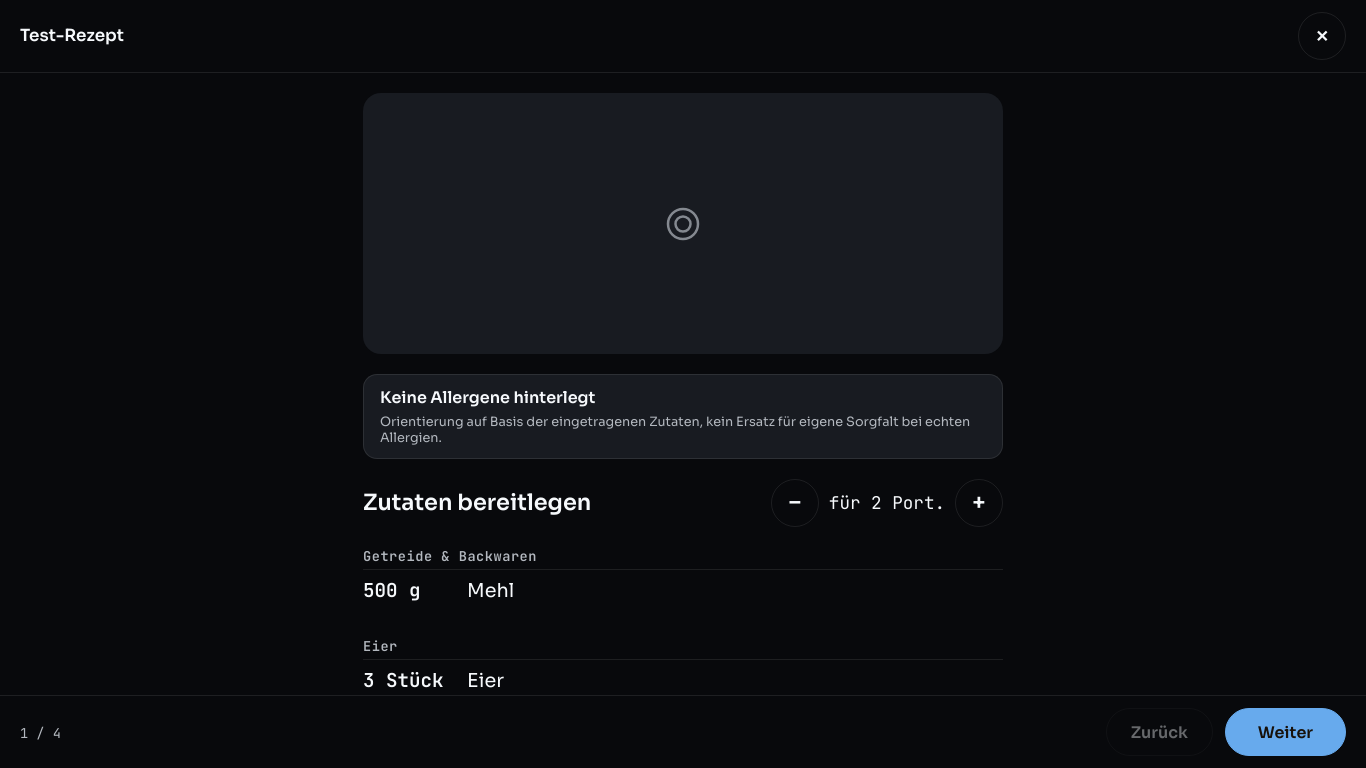
Test: CookingDialog — Timer starten und zurücksetzen › Start-Button zeigt Starten mit Dauer
Step 1. Click the button "Weiter" → (1285, 732), box x1=1225 y1=708 x2=1346 y2=756
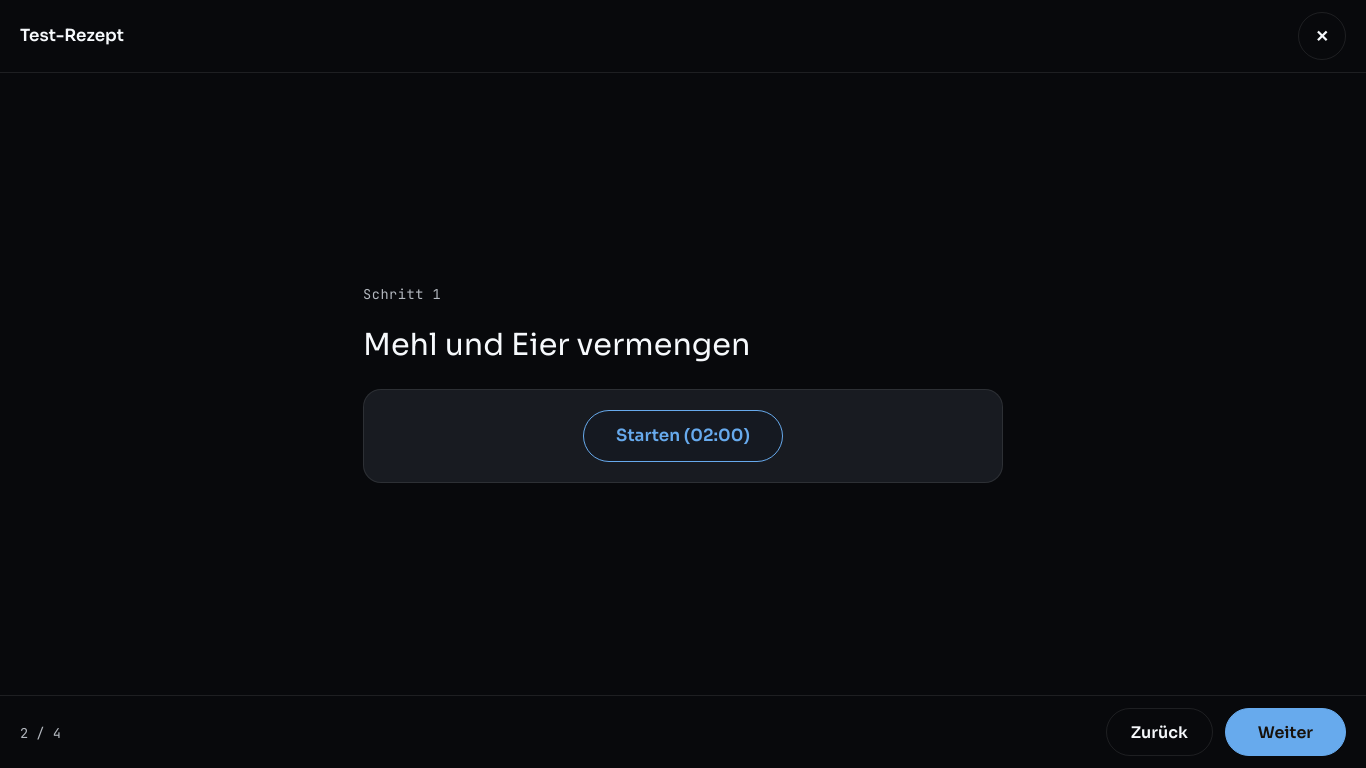
Now the button "Starten (02:00)" is shown, box x1=583 y1=410 x2=783 y2=462
